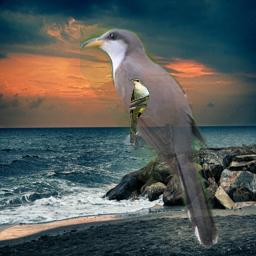Cuckoo: (80, 25, 223, 251), (128, 78, 150, 143)
